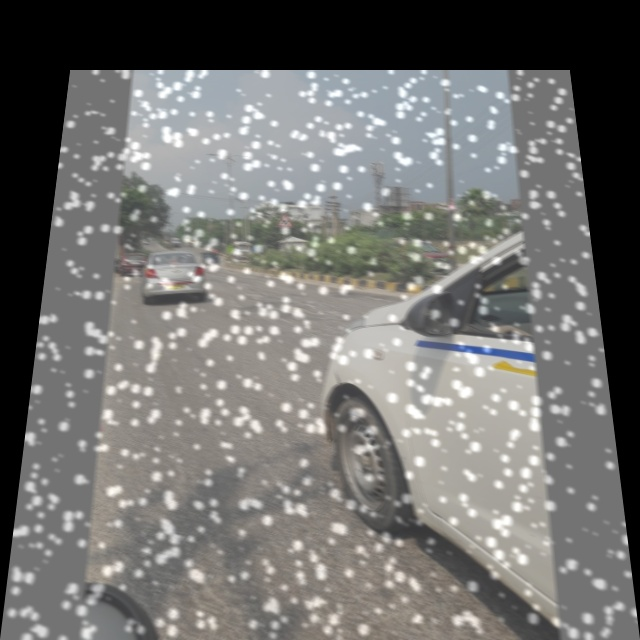Cross_Road: (274, 207, 296, 228)
